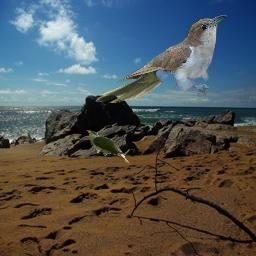Cuckoo: (95, 14, 227, 103), (86, 130, 132, 165)
